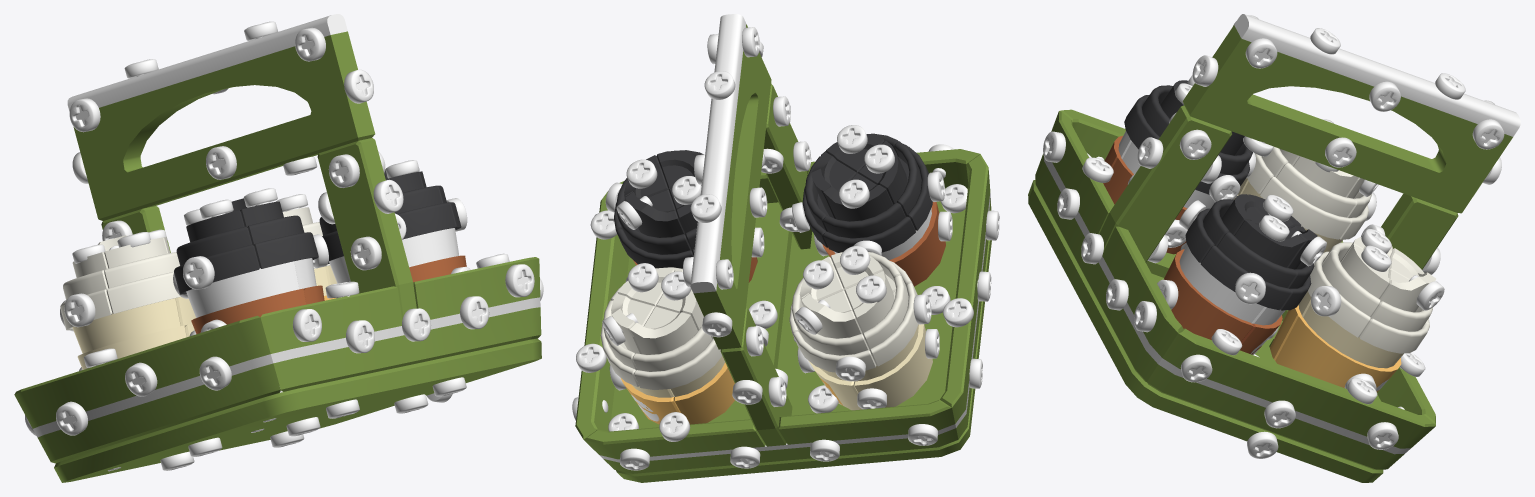
Rendered from CoffeeCup_GroupE.fbx.
3 views of the same model, side by side, from view 1: azimuth 30°, elevation 25°; view 2: azimuth 150°, elevation 25°; view 3: azimuth 270°, elevation 25° (orthographic). The views are drawn at different scales.
Visible parts, largest first — view 1: CoffeeCup_001, CoffeeCup_005, CoffeeCup_027, CoffeeCup_032, Screw (×17), CoffeeCup_023, CoffeeCup_002, CoffeeCup_030, CoffeeCup_006, CoffeeCup_010, CoffeeCup_012, CoffeeCup_014 (+5 smaller); view 2: Screw (×41), CoffeeCup_001, CoffeeCup_028, CoffeeCup_032, CoffeeCup_027, CoffeeCup_019, CoffeeCup_004, CoffeeCup_011, CoffeeCup_025, CoffeeCup_017, CoffeeCup_009, CoffeeCup_008 (+22 smaller); view 3: CoffeeCup_001, Screw (×29), CoffeeCup_004, CoffeeCup_005, CoffeeCup_032, CoffeeCup_023, CoffeeCup_036, CoffeeCup_015, CoffeeCup_029, CoffeeCup_007, CoffeeCup_020, CoffeeCup_021 (+13 smaller).
Boxes of the visible parts, left/top/right/bottom form: CoffeeCup_001: left=67, top=14, right=375, bottom=220; CoffeeCup_005: left=260, top=257, right=541, bottom=391; CoffeeCup_027: left=14, top=315, right=280, bottom=463; CoffeeCup_032: left=54, top=338, right=541, bottom=482; Screw (×17): left=56, top=27, right=534, bottom=435; CoffeeCup_023: left=317, top=138, right=416, bottom=319; CoffeeCup_002: left=186, top=261, right=306, bottom=392; CoffeeCup_030: left=72, top=298, right=186, bottom=369; CoffeeCup_006: left=104, top=237, right=180, bottom=313; CoffeeCup_010: left=175, top=210, right=259, bottom=292; CoffeeCup_012: left=240, top=201, right=318, bottom=268; CoffeeCup_014: left=385, top=172, right=455, bottom=239; Screw (×41): left=576, top=27, right=973, bottom=470; CoffeeCup_001: left=690, top=14, right=771, bottom=349; CoffeeCup_028: left=584, top=399, right=958, bottom=473; CoffeeCup_032: left=616, top=234, right=991, bottom=482; CoffeeCup_027: left=940, top=154, right=991, bottom=439; CoffeeCup_019: left=629, top=306, right=722, bottom=389; CoffeeCup_004: left=575, top=191, right=629, bottom=439; CoffeeCup_011: left=823, top=173, right=915, bottom=252; CoffeeCup_025: left=708, top=202, right=792, bottom=422; CoffeeCup_017: left=616, top=189, right=693, bottom=268; CoffeeCup_009: left=793, top=290, right=876, bottom=372; CoffeeCup_008: left=844, top=271, right=918, bottom=366; CoffeeCup_001: left=1183, top=14, right=1520, bottom=213; Screw (×29): left=1043, top=28, right=1504, bottom=458; CoffeeCup_004: left=1147, top=328, right=1435, bottom=469; CoffeeCup_005: left=1035, top=111, right=1182, bottom=382; CoffeeCup_032: left=1028, top=179, right=1383, bottom=482; CoffeeCup_023: left=1099, top=105, right=1232, bottom=262; CoffeeCup_036: left=1275, top=304, right=1403, bottom=392; CoffeeCup_015: left=1200, top=220, right=1305, bottom=310; CoffeeCup_029: left=1163, top=245, right=1264, bottom=341; CoffeeCup_007: left=1260, top=156, right=1358, bottom=239; CoffeeCup_020: left=1308, top=244, right=1389, bottom=337; CoffeeCup_021: left=1360, top=269, right=1435, bottom=353.
Size of the model in its own units: 10.72 by 10.57 by 10.66.
Materials: 3 (2 with a texture image).
